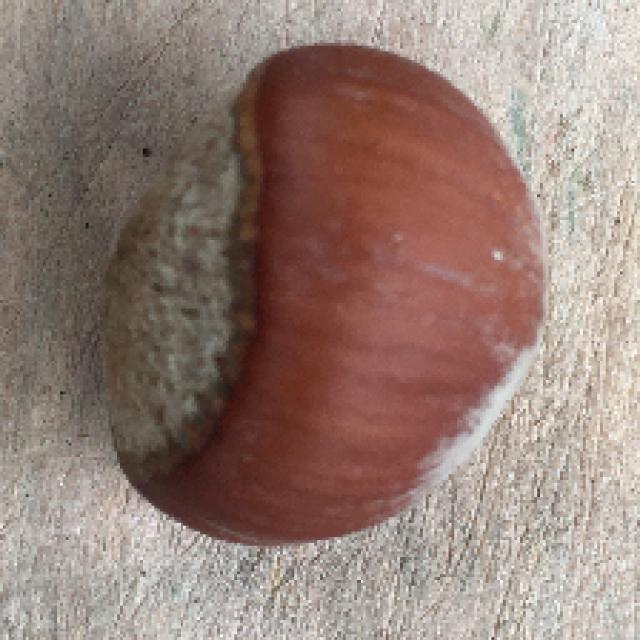qualityHazelnut: (84, 31, 552, 552)
